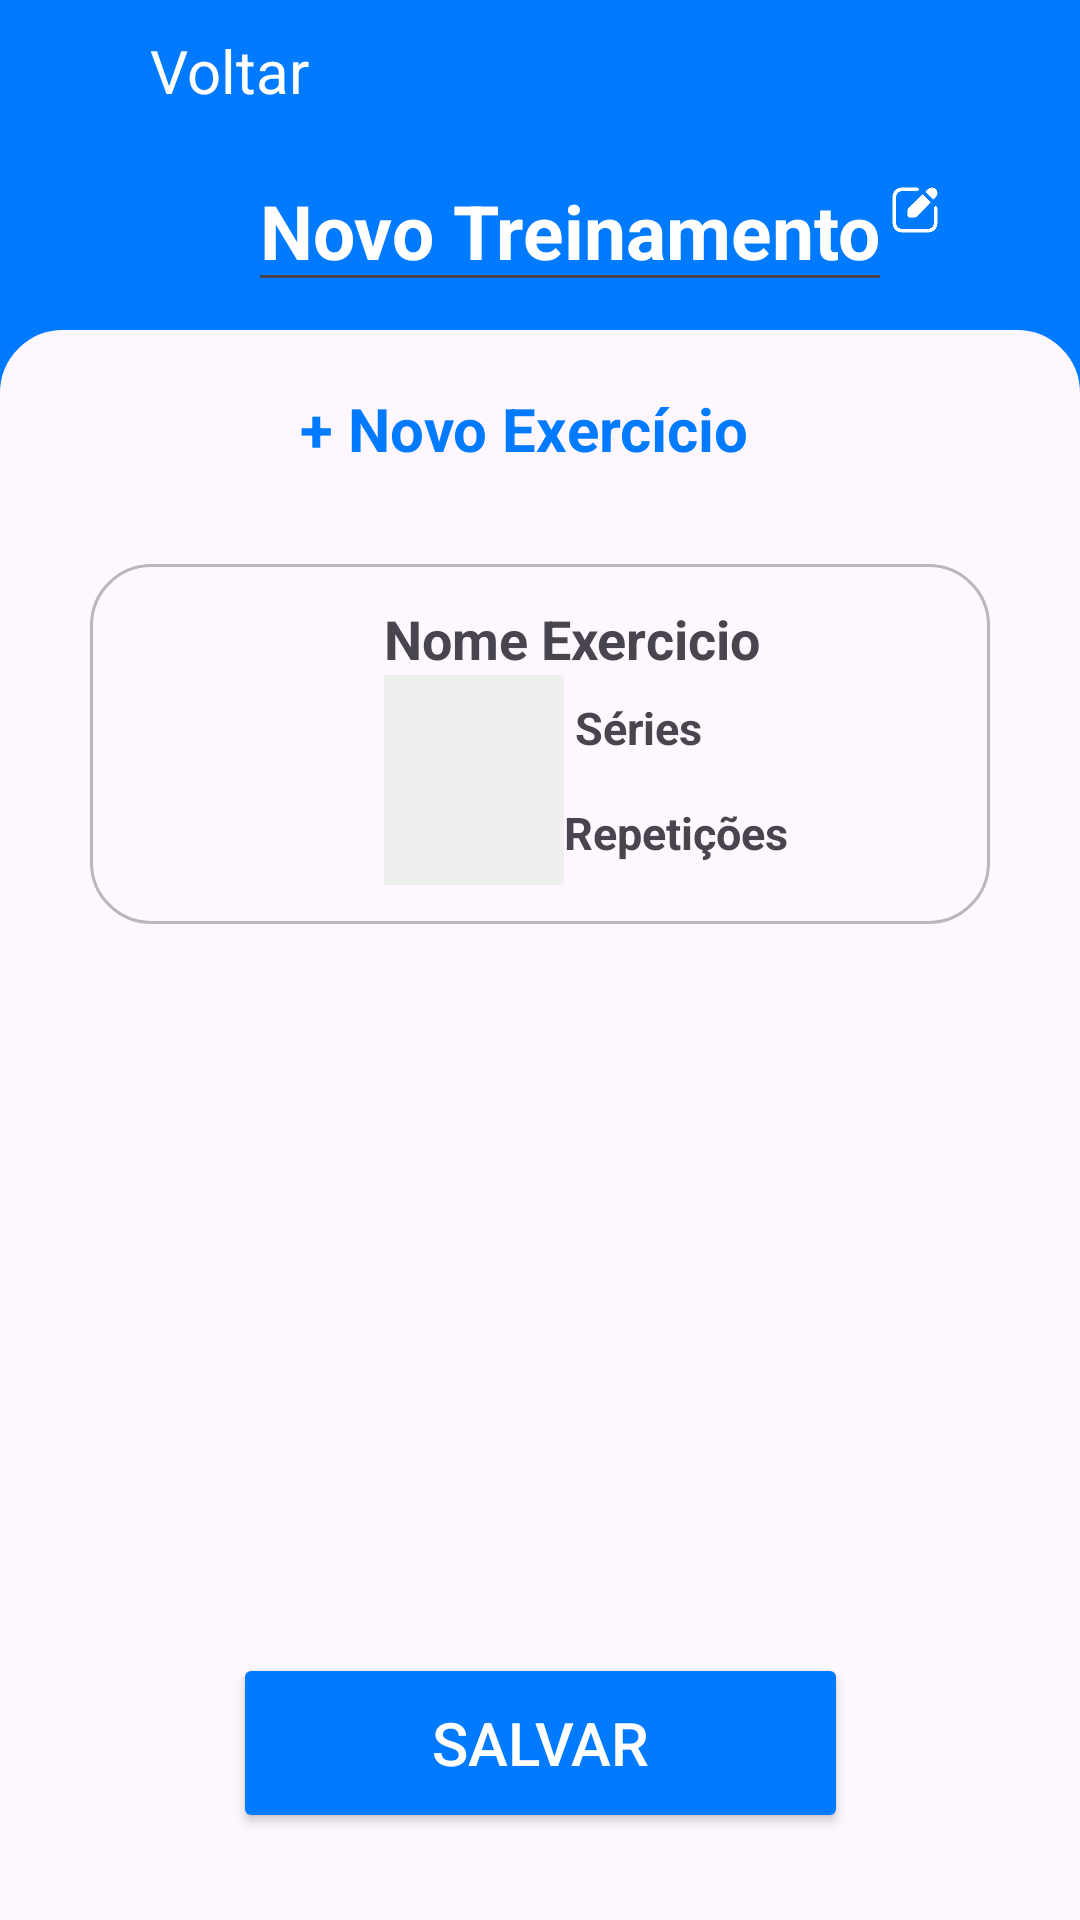

Icons on this 1080w x 1920h Android screen, each with the point to tap as [x,y]:
edit: [915,210]
